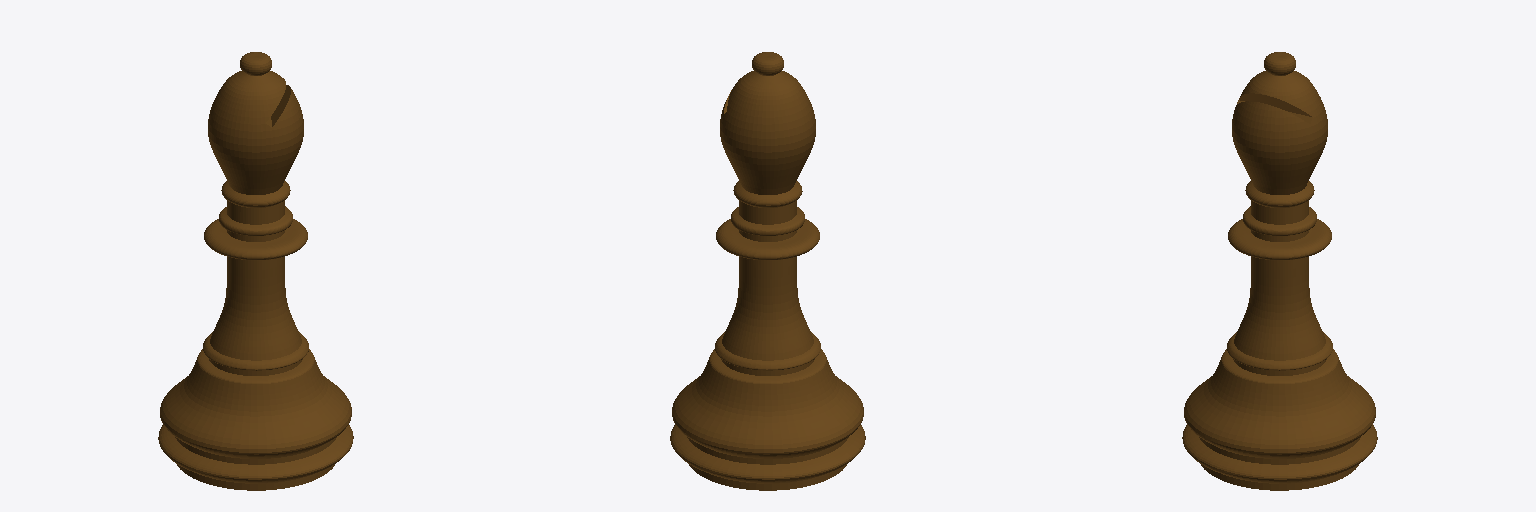
File: alfil_ficha.obj
The picture shows the model from 3 angles: view 1: azimuth 30°, elevation 25°; view 2: azimuth 150°, elevation 25°; view 3: azimuth 270°, elevation 25°; orthographic projection.
Parts seen in each view (by area): view 1: Bishop; view 2: Bishop; view 3: Bishop.
Part boxes in pixels (bbox=[...]): Bishop: bbox=[158, 52, 353, 490]; Bishop: bbox=[670, 52, 865, 490]; Bishop: bbox=[1182, 52, 1377, 490].
Bounding box in the file's own units: 3.37 × 7.61 × 3.37.